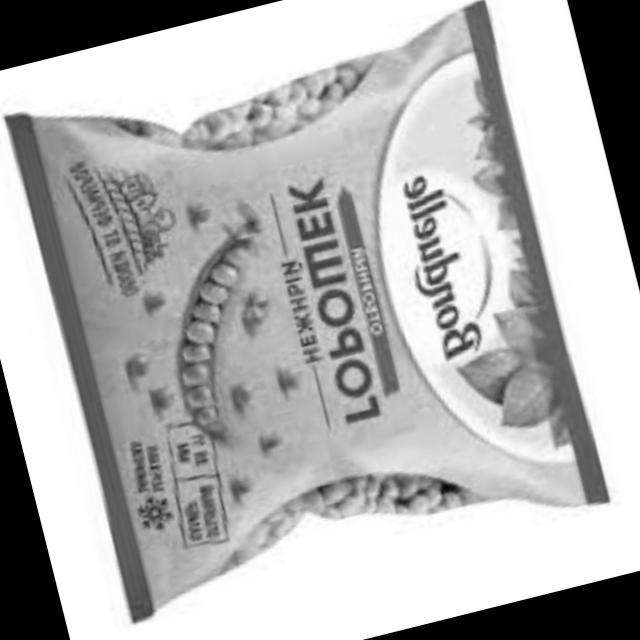dau Ha Lan: (130, 35, 390, 168), (230, 440, 469, 576), (155, 204, 295, 432), (241, 385, 333, 471), (220, 452, 281, 512), (134, 378, 204, 426), (132, 259, 181, 323), (178, 182, 237, 234), (237, 284, 290, 336), (268, 361, 322, 412), (117, 349, 165, 389), (228, 375, 258, 412)
